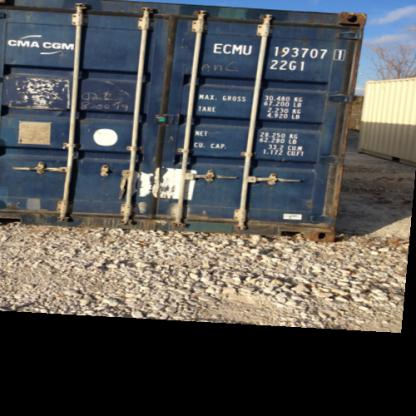Damage: (133, 162, 198, 224), (0, 67, 76, 119), (78, 72, 143, 119), (279, 193, 314, 228), (10, 198, 52, 223), (337, 9, 364, 46)
